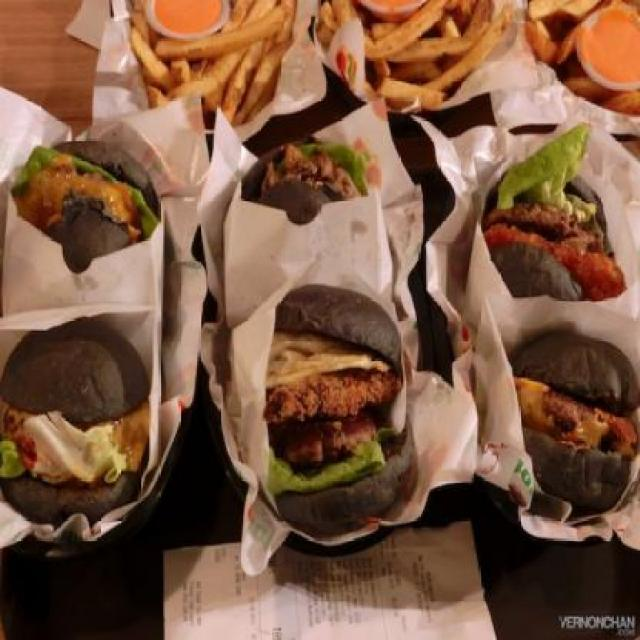Hamburger: (267, 283, 411, 532), (0, 320, 151, 534), (481, 120, 624, 298), (508, 333, 640, 515), (12, 138, 162, 274), (240, 137, 369, 225)
